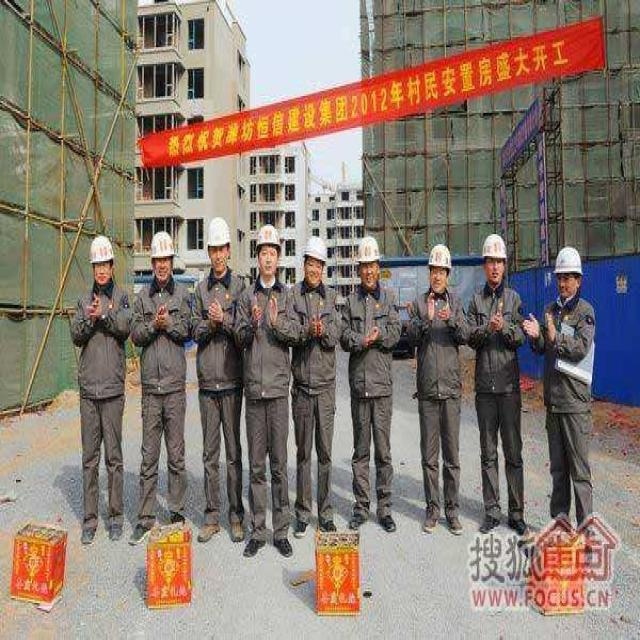Con_Casco: (356, 234, 383, 290), (427, 241, 453, 294)
